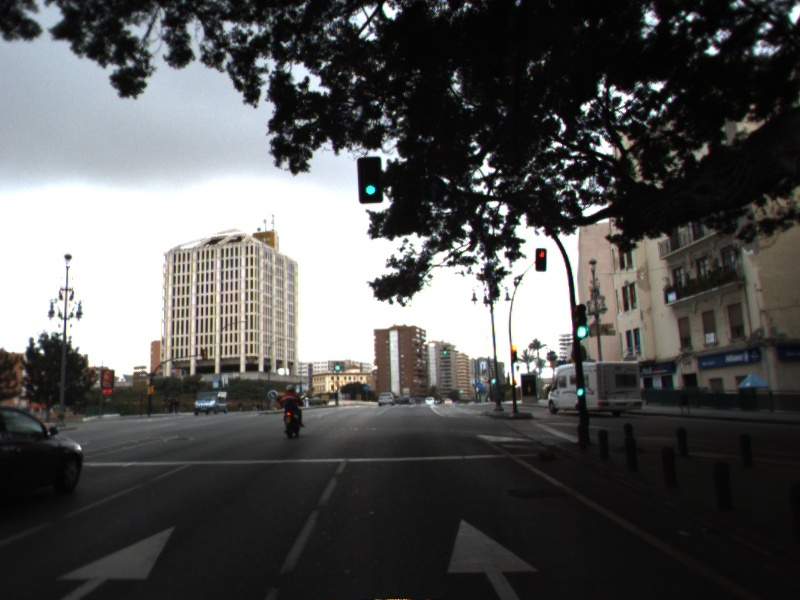STRAIGHT: (50, 520, 181, 600), (441, 514, 544, 600)
